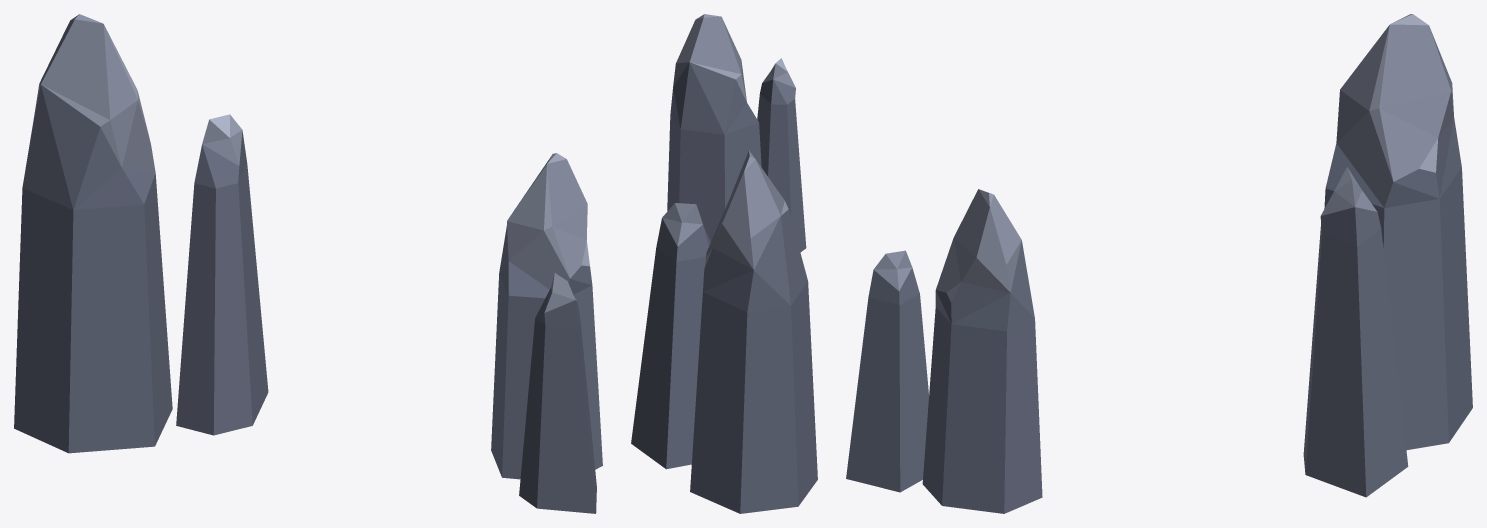
File: Flora_Rocks_01 (1).fbx
The picture shows the model from 3 angles, left to right: view 1: azimuth 30°, elevation 25°; view 2: azimuth 150°, elevation 25°; view 3: azimuth 270°, elevation 25°; orthographic projection. The views are drawn at different scales.
Parts seen in each view (by area): view 1: Color_01 (×2); view 2: Color_01 (×2); view 3: Color_01 (×2).
Boxes of the visible parts, box(x1,y1,x2,y2) form: Color_01 (×2): box(14, 14, 602, 513); Color_01 (×2): box(631, 14, 817, 513); Color_01 (×2): box(846, 14, 1472, 513).
Size of the model in its own units: 28.43 by 29.79 by 42.01.
